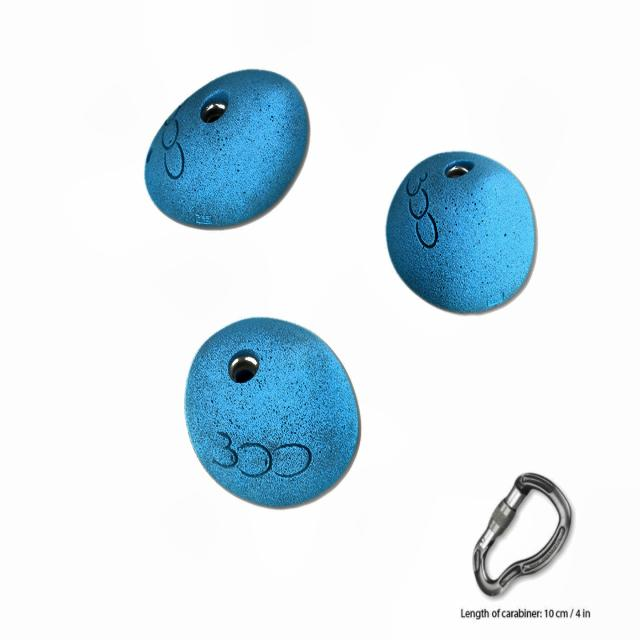Hold: (190, 318, 354, 506), (140, 64, 309, 228), (389, 152, 538, 308)
